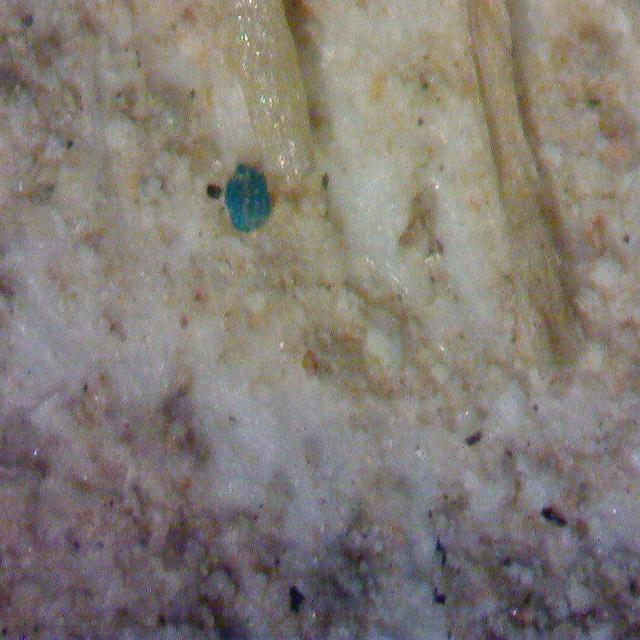microplastic: (208, 161, 290, 244)
